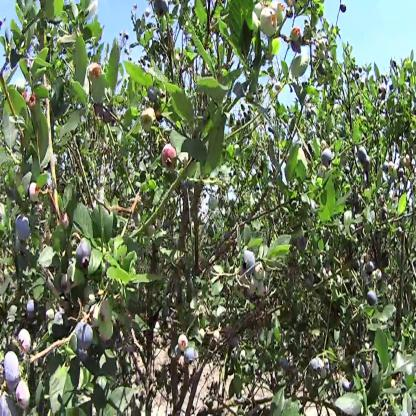intermediate: (15, 382, 29, 409), (162, 146, 176, 169), (100, 304, 111, 323), (17, 333, 29, 350), (89, 64, 101, 79), (291, 28, 302, 42), (60, 213, 69, 228), (179, 335, 187, 349), (29, 95, 36, 106), (23, 92, 29, 101)
mature: (4, 354, 21, 388), (16, 215, 31, 242), (75, 325, 92, 347), (239, 251, 254, 274), (76, 242, 90, 263), (156, 1, 170, 17), (309, 360, 321, 377), (185, 349, 197, 364), (323, 150, 333, 168), (27, 301, 38, 317), (77, 349, 88, 359), (147, 87, 156, 99), (368, 291, 377, 303), (358, 147, 366, 159), (399, 167, 405, 178), (343, 380, 350, 389), (364, 160, 369, 172), (342, 4, 347, 15), (367, 261, 373, 270), (384, 162, 388, 174)
young: (262, 9, 276, 36), (270, 1, 285, 25), (141, 109, 155, 129), (252, 11, 259, 35), (29, 184, 39, 200), (255, 264, 264, 280), (256, 280, 264, 295), (69, 264, 75, 281), (256, 3, 263, 16), (47, 309, 55, 320), (376, 270, 383, 280), (319, 38, 325, 49), (320, 51, 326, 62), (214, 333, 220, 342), (201, 329, 205, 338), (322, 139, 326, 148), (324, 359, 328, 367), (407, 155, 410, 162)
